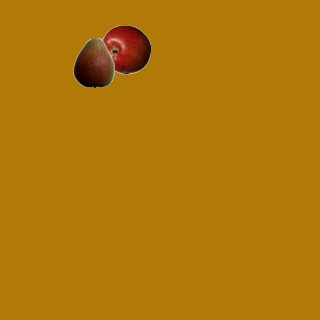Apple Braeburn: (100, 24, 150, 74)
Pear Forelle: (68, 37, 118, 87)
